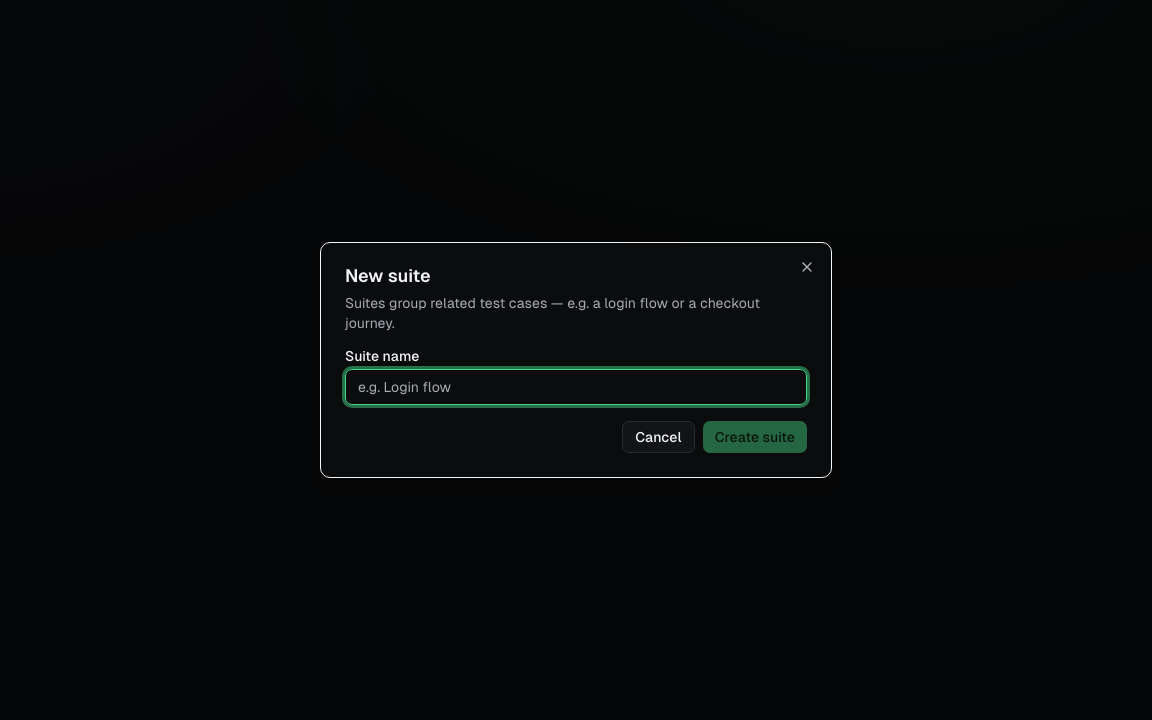
Test: CreateSuiteDialog › surfaces an error when the backend rejects the create
Type "Bad" into the field with test id "create-suite-name" at coordinates (576, 387), box x1=345 y1=369 x2=807 y2=405
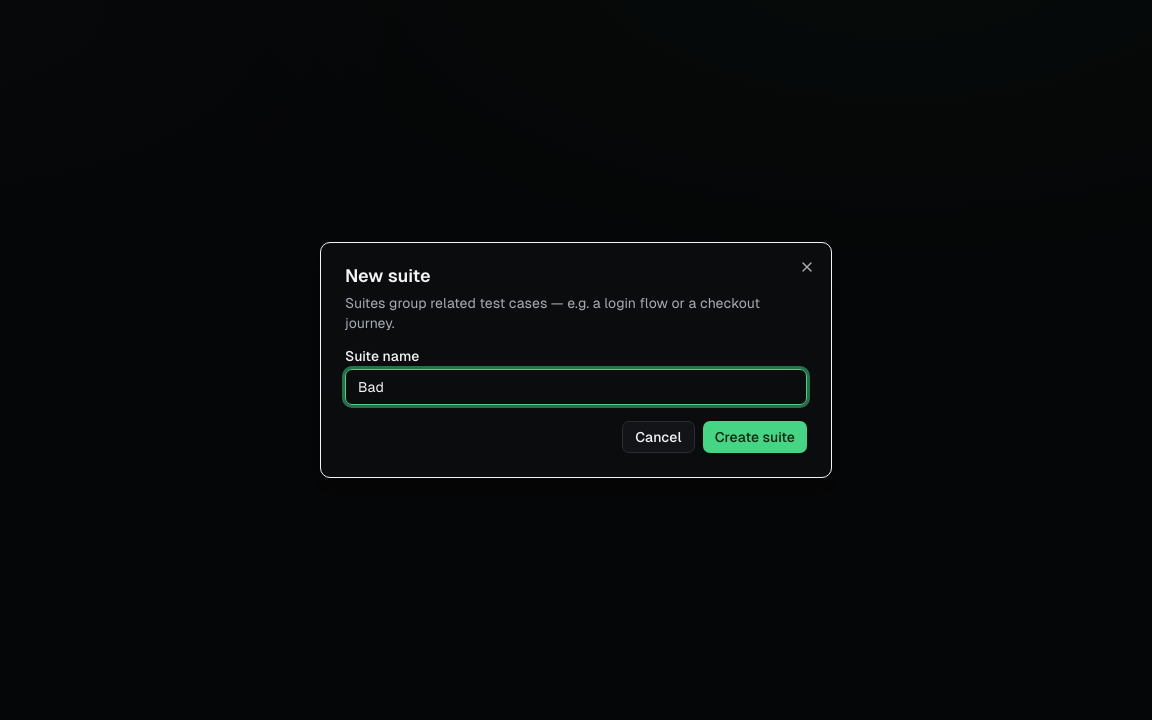
Click the button with test id "create-suite-submit" at coordinates (755, 437), box x1=703 y1=421 x2=807 y2=453
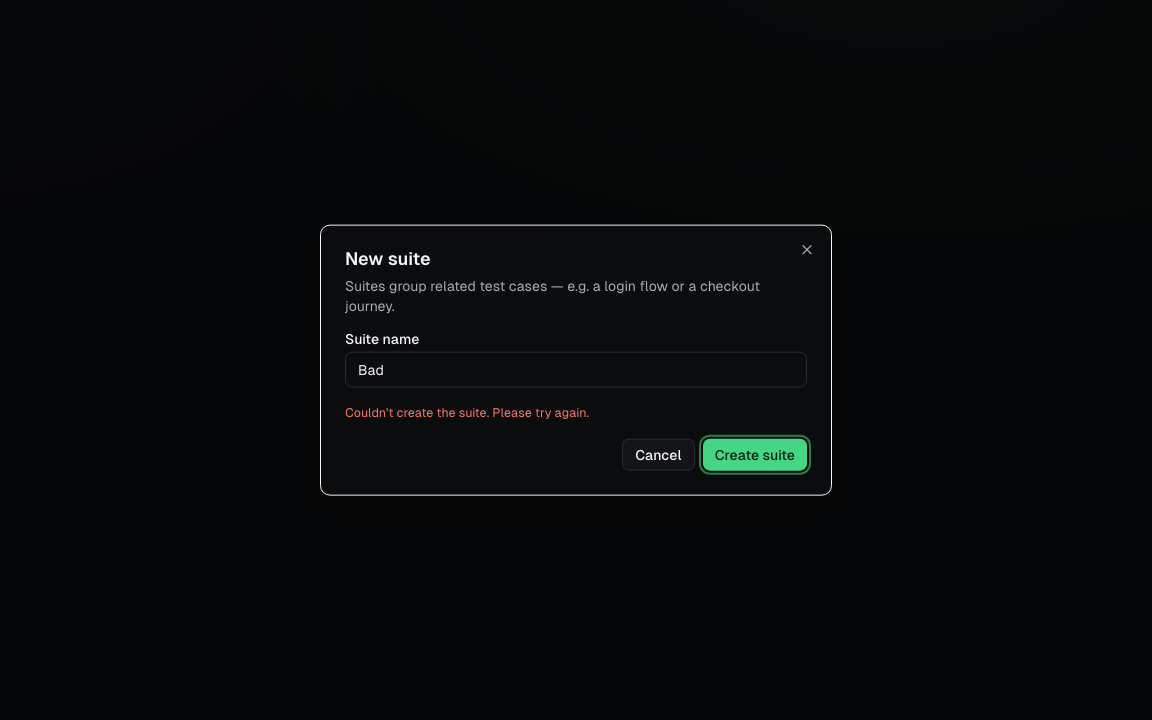
Check: the text "Couldn't create the suite. Please try again." is shown, box x1=345 y1=405 x2=589 y2=420
